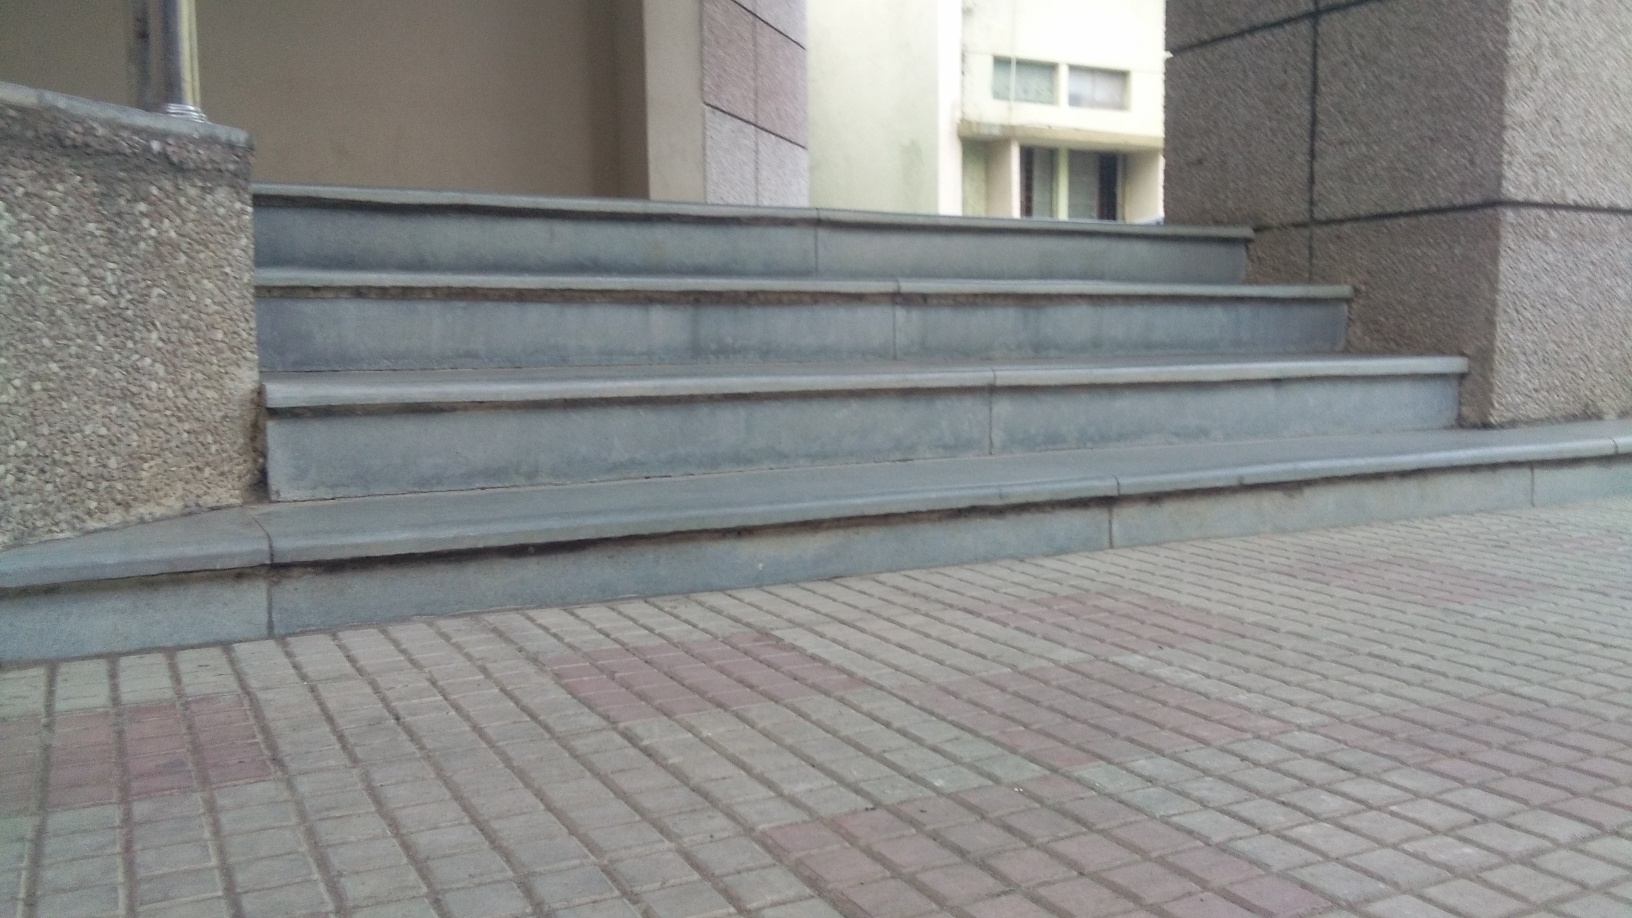stairs_up: (250, 178, 1476, 556)
